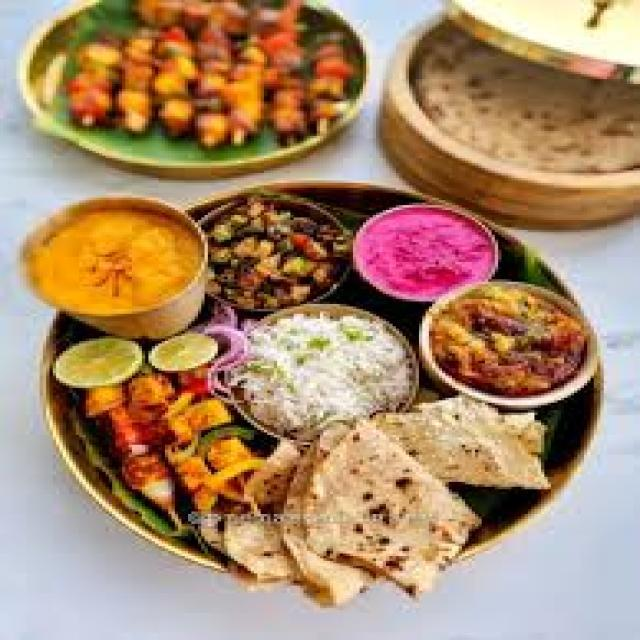papad: (377, 394, 567, 493)
rice: (235, 305, 424, 431)
roti: (244, 423, 479, 600)
sweet: (346, 207, 498, 306)
veg-fry: (411, 284, 596, 404)
